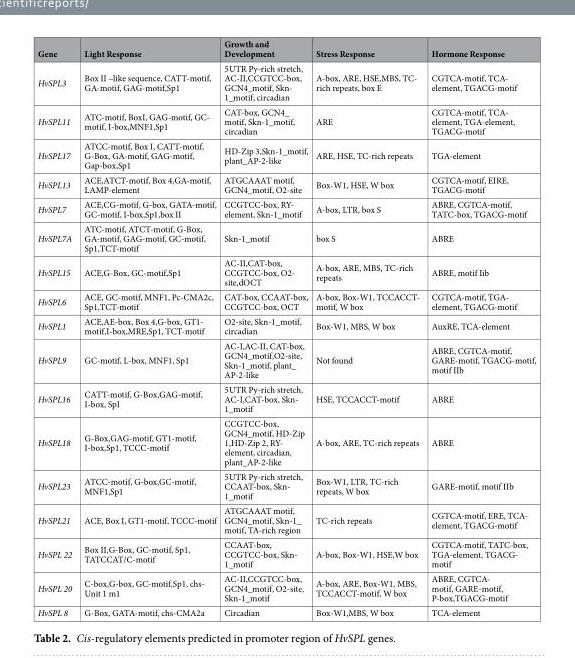table: (36, 37, 535, 618)
table column: (77, 37, 219, 618), (311, 37, 424, 618), (424, 37, 535, 618), (219, 37, 311, 618), (36, 37, 77, 618)
table column header: (36, 37, 535, 60)
table row: (36, 415, 535, 468), (36, 60, 535, 104), (36, 337, 535, 381), (36, 104, 535, 138), (36, 138, 535, 172), (36, 221, 535, 255), (36, 255, 535, 289), (36, 381, 535, 415), (36, 468, 535, 502), (36, 502, 535, 536), (36, 536, 535, 570), (36, 570, 535, 604), (36, 196, 535, 221), (36, 172, 535, 196), (36, 289, 535, 313), (36, 313, 535, 337), (36, 37, 535, 60), (36, 604, 535, 618)
